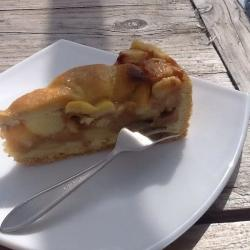apple_pie: (2, 39, 194, 166)
